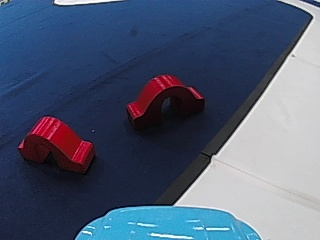bridge: (15, 113, 99, 177), (122, 71, 205, 128)
